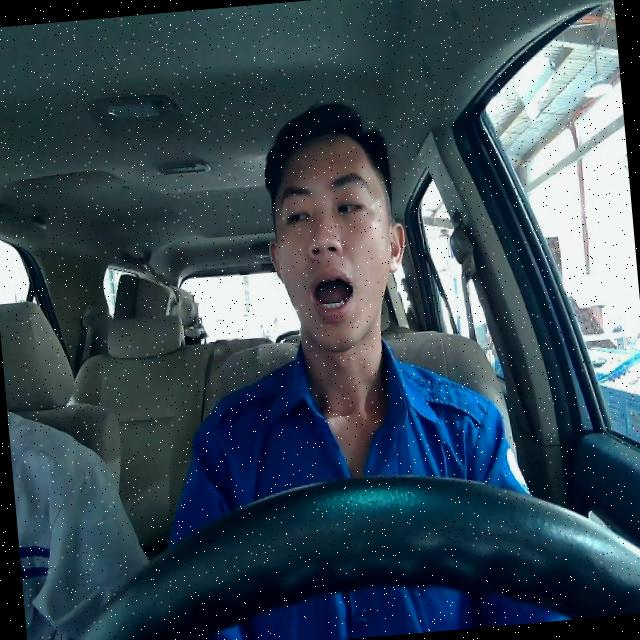yarning: (256, 123, 414, 354)
